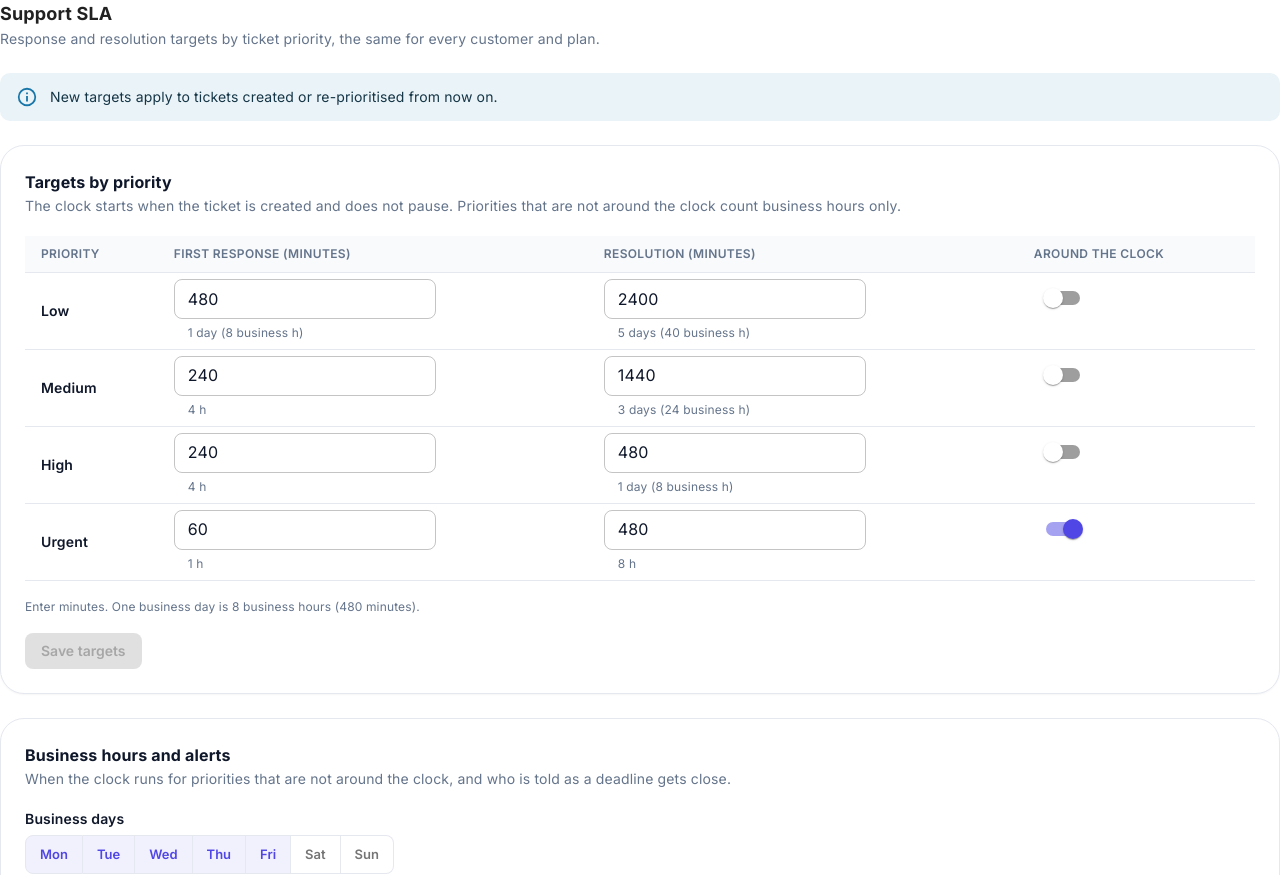
Scenario: AdminSlaSettingsPage › shows the backend error when saving targets fails
What coordinates should you click on to do the following:
click the switch named "Low around the clock"
I would click on:
 (1053, 298)
Its box is 1043,288 -> 1063,308.
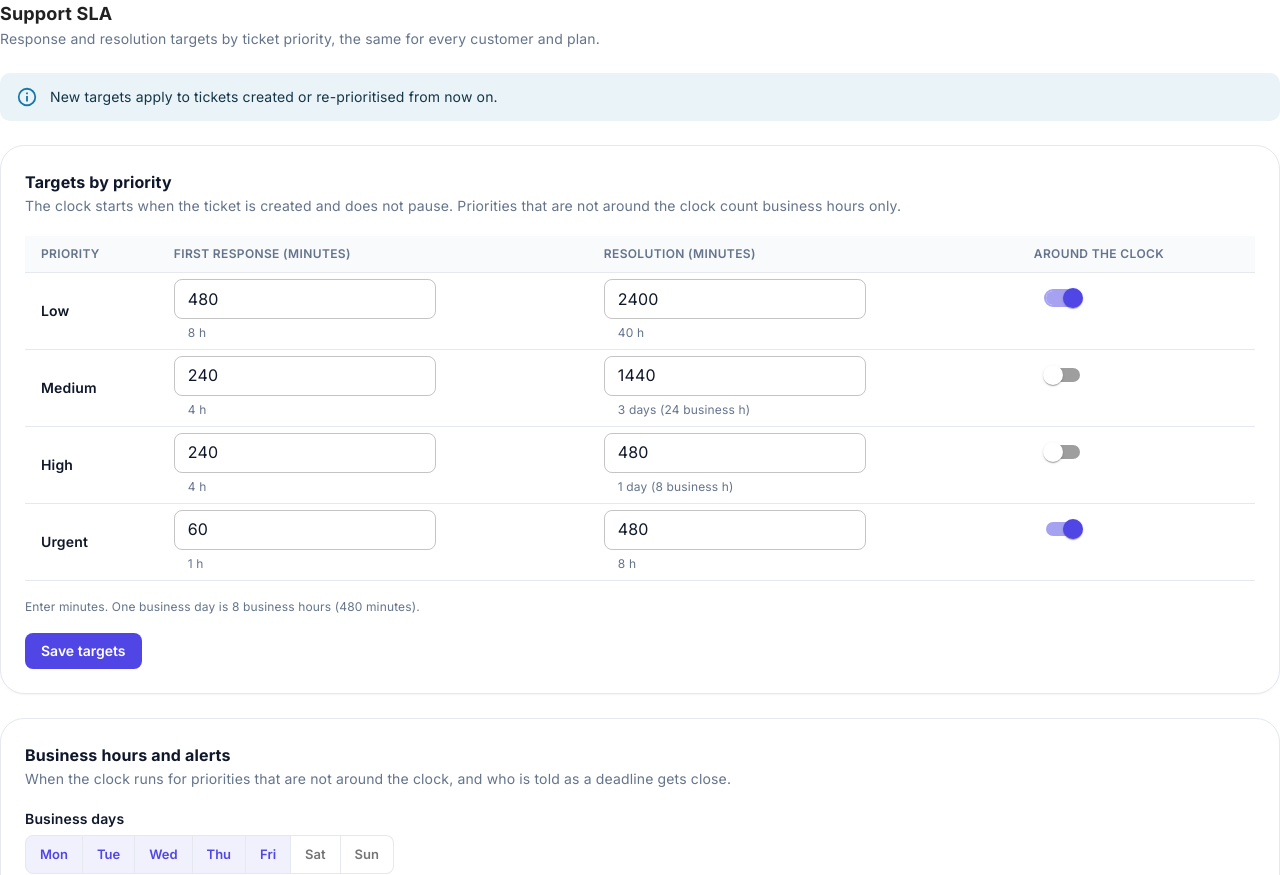
What coordinates should you click on to do the following:
click the button "Save targets"
I would click on:
 (83, 651)
Its box is 25,633 -> 142,669.
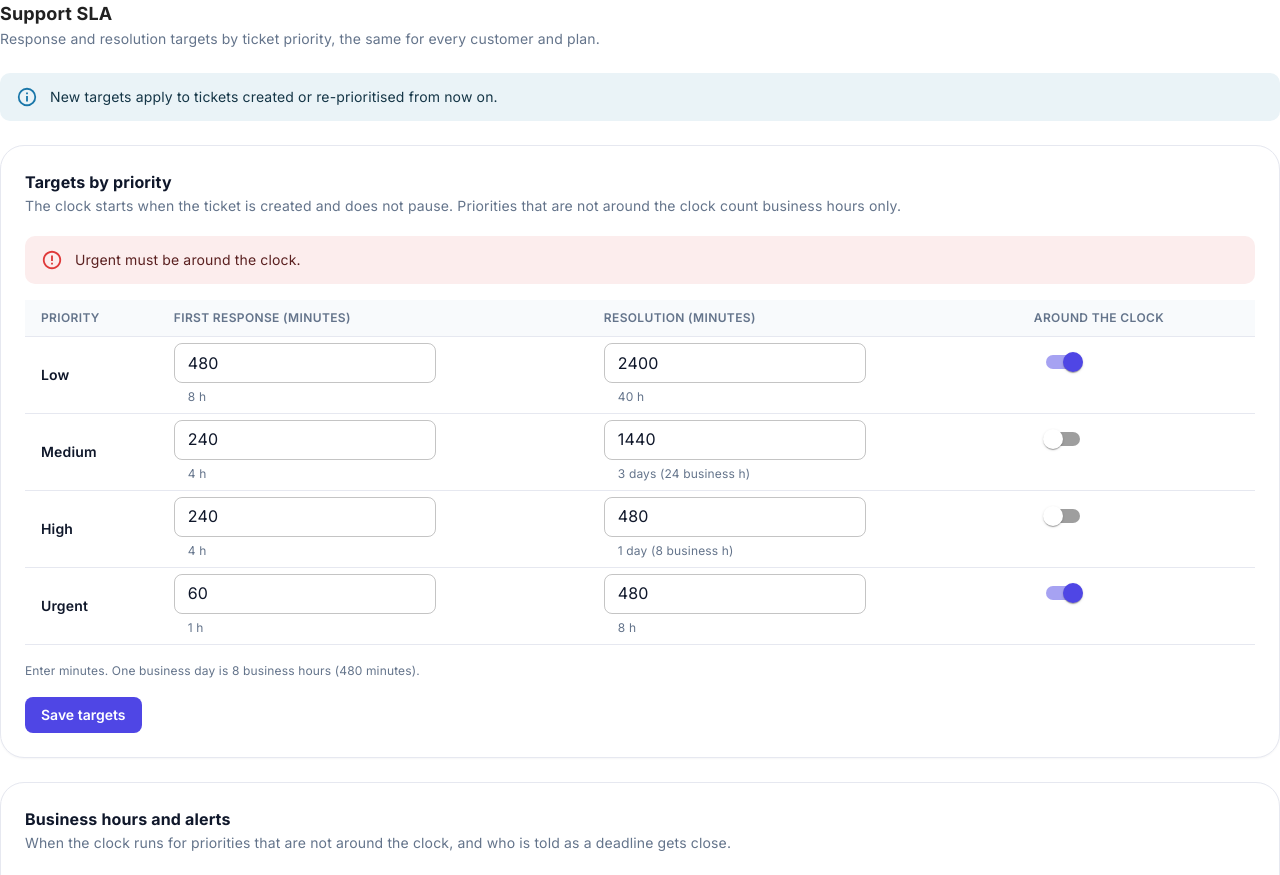
Result: the text "Urgent must be around the clock." is shown at 75,251 -> 301,268
